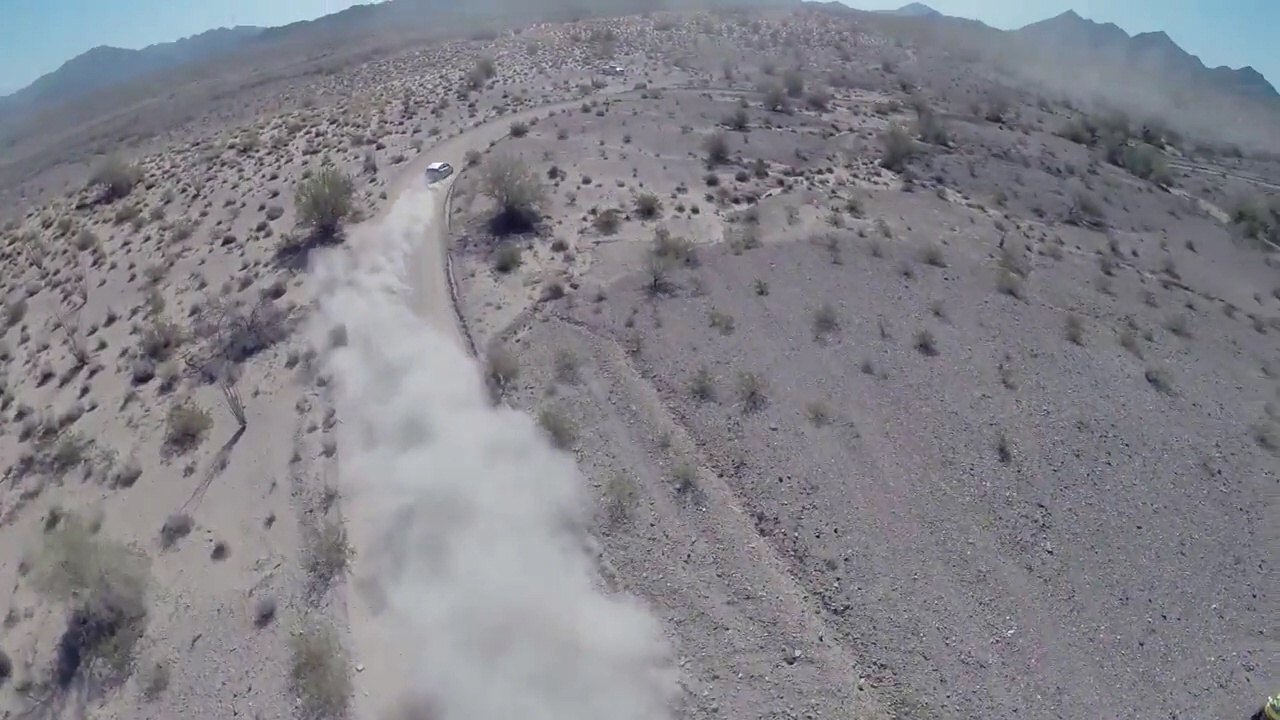araba: (425, 158, 456, 183)
